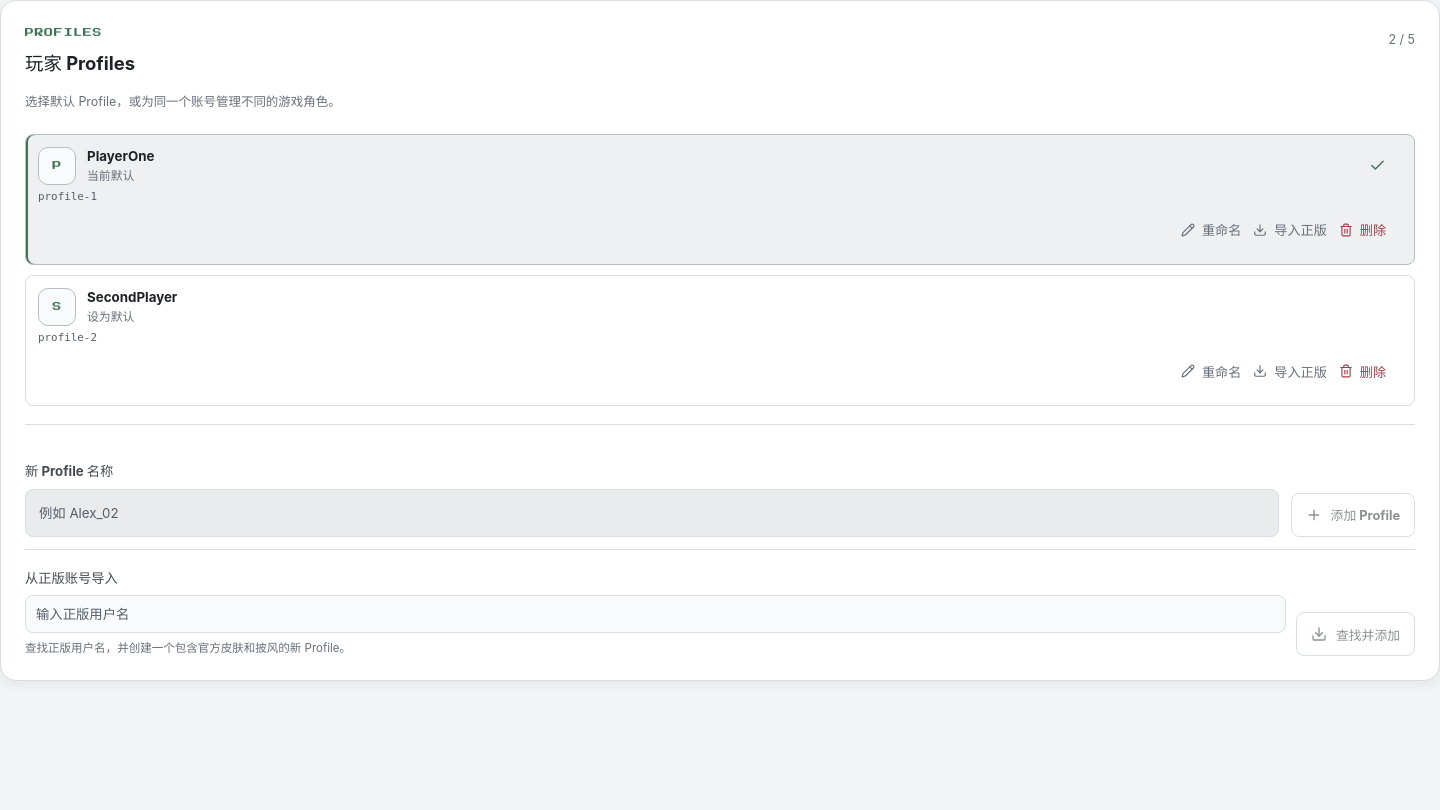
Test: ProfileManagement › overwrites an existing profile with an imported official account
Check: the element showing "S SecondPlayer 设为默认 profile-2 重命名 导入正版 删除" is shown, box left=25, top=275, right=1415, bottom=406
Click the 2nd button "导入正版" at (1290, 371), box left=1253, top=349, right=1327, bottom=393
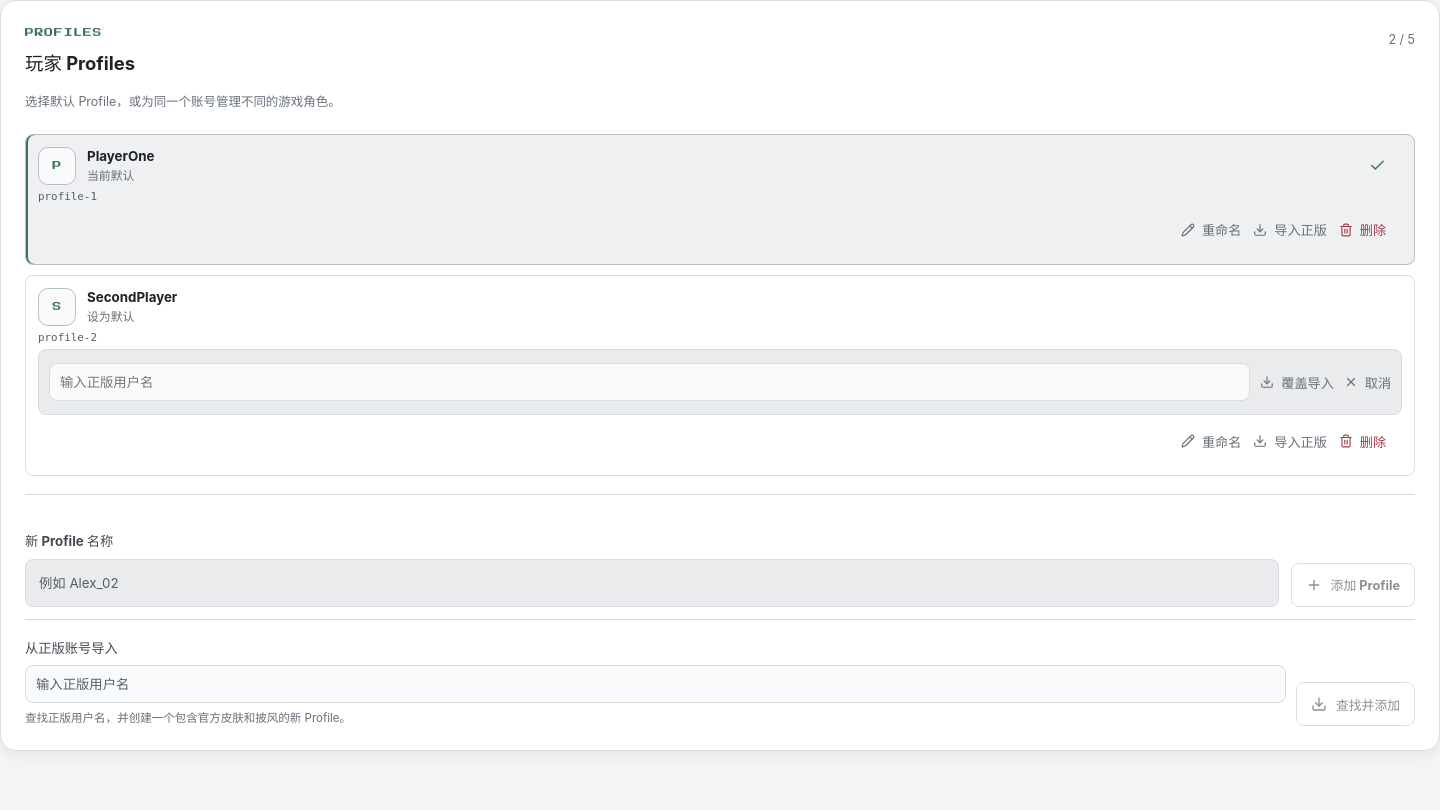
Type "Notch" into the field with id "import-profile-2" at (650, 382), box left=49, top=363, right=1250, bottom=401
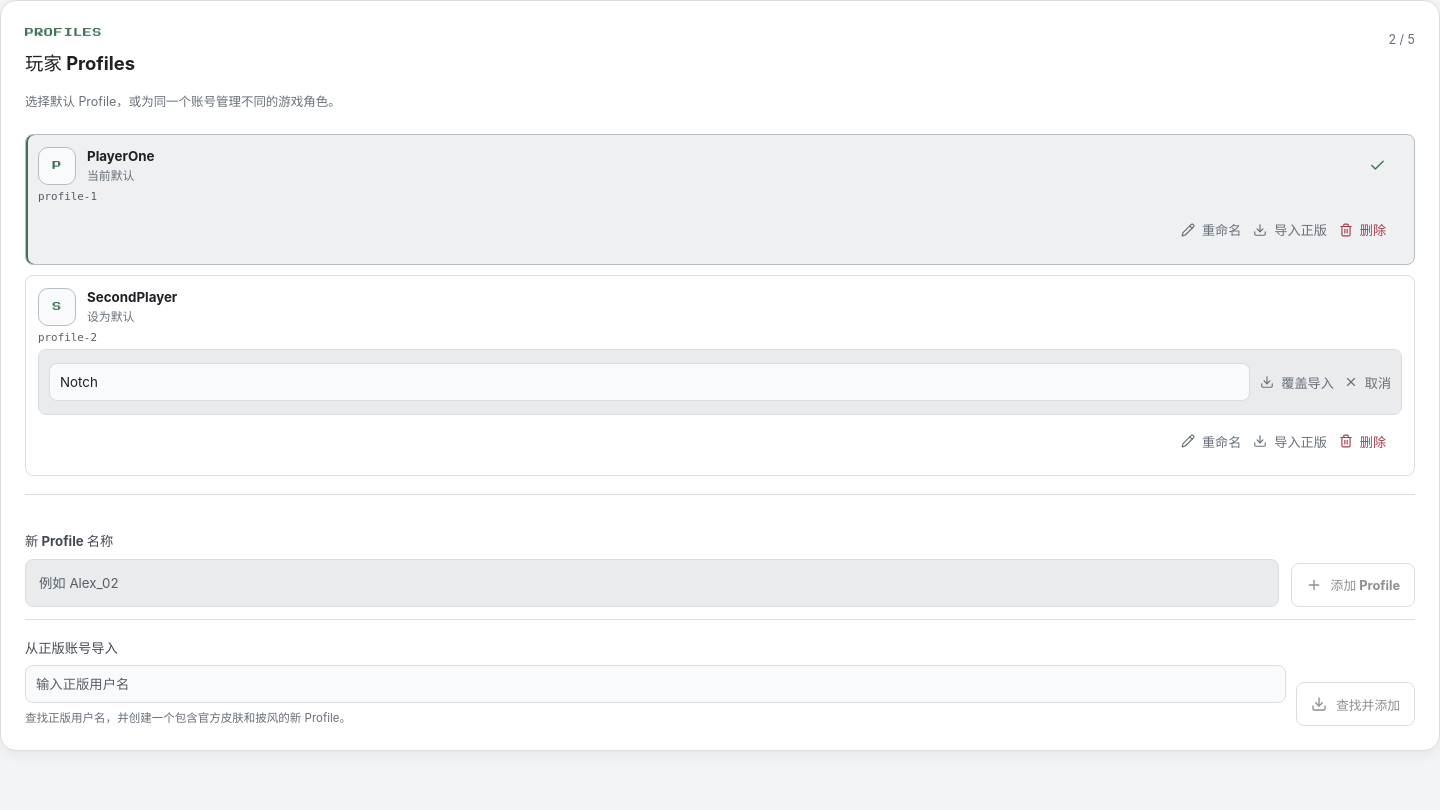
Submit the form "覆盖导入 取消", box left=38, top=349, right=1402, bottom=415
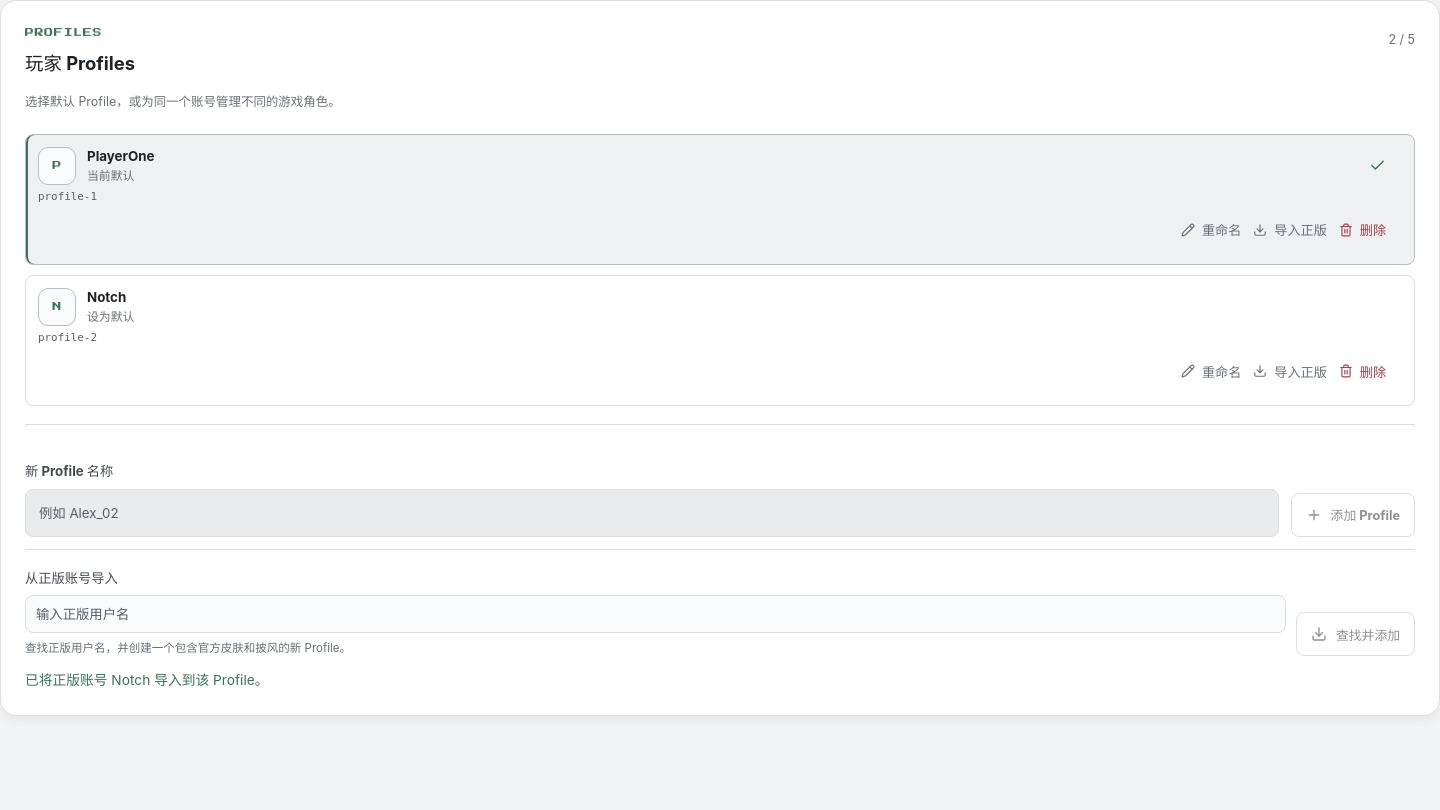
Check: the text "已将正版账号 Notch 导入到该 Profile" is shown, box left=25, top=672, right=268, bottom=688
